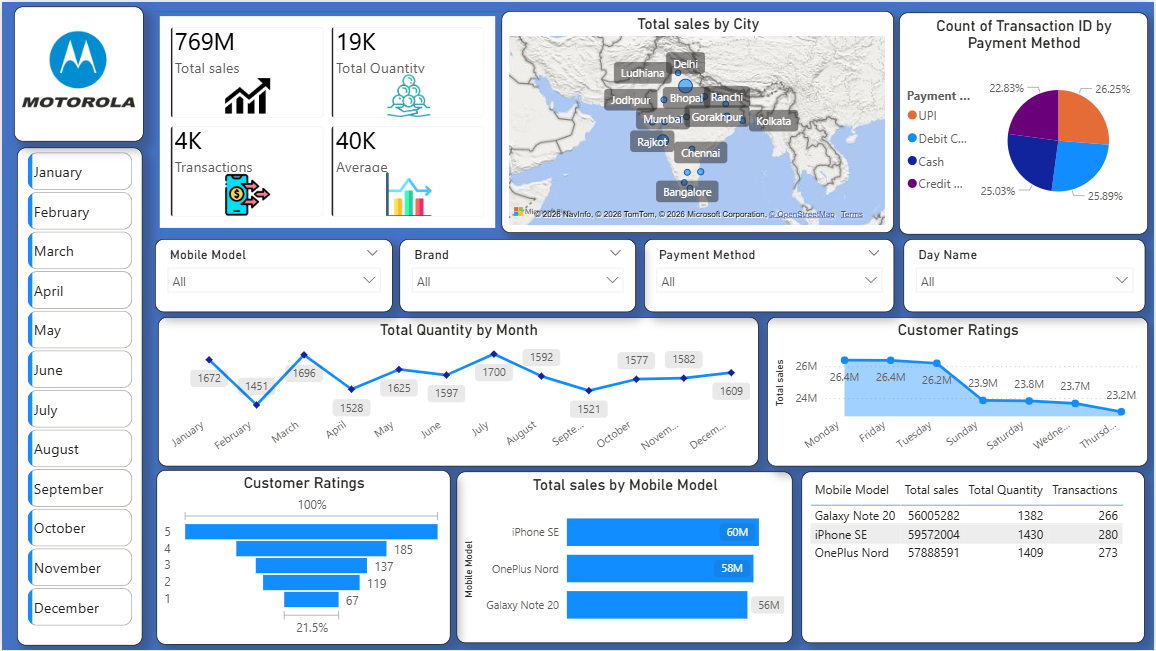

What the dashboard file says about the page in this screenshot:
{"tool":"powerbi","page":{"name":"Page 1","canvas":[1280,720],"ordinal":0},"visuals":[{"type":"shape","box":[17.2,161,139.1,553.3],"z":0},{"type":"advancedSlicerVisual","fields":{"Values":["sales_data.Date.Variation.Date Hierarchy.Month"]},"box":[23.4,161,126.6,540.8],"z":1000},{"type":"shape","box":[12.5,4.7,143.8,150],"z":2000},{"type":"image","box":[0,4.7,170.4,139.1],"z":3000},{"type":"cardVisual","fields":{"Data":["sales_data.Total sales","sales_data.Total Quantity","sales_data.Total Transactions","sales_data.Average","sales_data.Average"]},"box":[170.4,4.7,384.5,251.6],"z":4000},{"type":"map","fields":{"Category":["sales_data.City"],"Size":["sales_data.Total sales"]},"box":[554.9,9.4,436.1,247],"z":5000},{"type":"lineChart","fields":{"Category":["sales_data.Date.Variation.Date Hierarchy.Month","sales_data.Date.Variation.Date Hierarchy.Day"],"Y":["sales_data.Total Quantity"]},"box":[173.5,350.1,667.4,165.7],"z":6000},{"type":"clusteredBarChart","fields":{"Category":["sales_data.Mobile Model"],"Y":["sales_data.Total sales"]},"box":[504.8,522,373.6,190.7],"z":7000},{"type":"pieChart","fields":{"Category":["sales_data.Payment Method"],"Y":["CountNonNull(sales_data.Transaction ID)"]},"box":[997.2,10.9,276.6,247],"z":8000},{"type":"funnel","title":"Customer Ratings","fields":{"Category":["sales_data.Customer Ratings"],"Y":["CountNonNull(sales_data.Customer Ratings)"]},"box":[171.9,520.5,326.7,193.8],"z":9000},{"type":"areaChart","title":"Customer Ratings","fields":{"Category":["sales_data.Day Name"],"Y":["sales_data.Total sales"]},"box":[850.3,350.1,423.6,165.7],"z":10000},{"type":"tableEx","title":"Customer Ratings","fields":{"Values":["sales_data.Mobile Model","sales_data.Total sales","sales_data.Total Quantity","sales_data.Transactions"]},"box":[887.8,522,381.4,190.7],"z":11000},{"type":"slicer","title":"Customer Ratings","fields":{"Values":["sales_data.Payment Method"]},"box":[712.7,262.6,278.2,81.3],"z":12000},{"type":"slicer","title":"Customer Ratings","fields":{"Values":["sales_data.Mobile Model"]},"box":[170.4,262.6,264.1,81.3],"z":13000},{"type":"slicer","title":"Customer Ratings","fields":{"Values":["sales_data.Brand"]},"box":[442.3,262.6,262.6,81.3],"z":14000},{"type":"slicer","title":"Customer Ratings","fields":{"Values":["sales_data.Day Name"]},"box":[1001.9,262.6,268.8,81.3],"z":15000}]}

Visuals, with their boxes in screenshot pixels (x1, y1, x2, y2), scaled from the page's 1280x720 canvas onto the 1156x651 screenshot:
shape: 16,146,141,646
advancedSlicerVisual - sales_data.Date.Variation.Date Hierarchy.Month: 21,146,135,635
shape: 11,4,141,140
image: 0,4,154,130
cardVisual - sales_data.Total sales x sales_data.Total Quantity: 154,4,501,232
map - sales_data.City x sales_data.Total sales: 501,8,895,232
lineChart - sales_data.Date.Variation.Date Hierarchy.Month x sales_data.Date.Variation.Date Hierarchy.Day: 157,317,759,466
clusteredBarChart - sales_data.Mobile Model x sales_data.Total sales: 456,472,793,644
pieChart - sales_data.Payment Method x CountNonNull(sales_data.Transaction ID): 901,10,1150,233
"Customer Ratings" funnel: 155,471,450,646
"Customer Ratings" areaChart: 768,317,1150,466
"Customer Ratings" tableEx: 802,472,1146,644
"Customer Ratings" slicer: 644,237,895,311
"Customer Ratings" slicer: 154,237,392,311
"Customer Ratings" slicer: 399,237,637,311
"Customer Ratings" slicer: 905,237,1148,311
